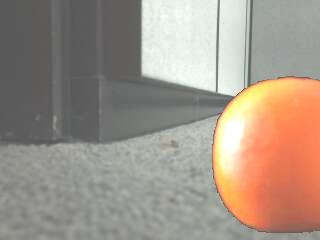Orange: (213, 77, 320, 234)
